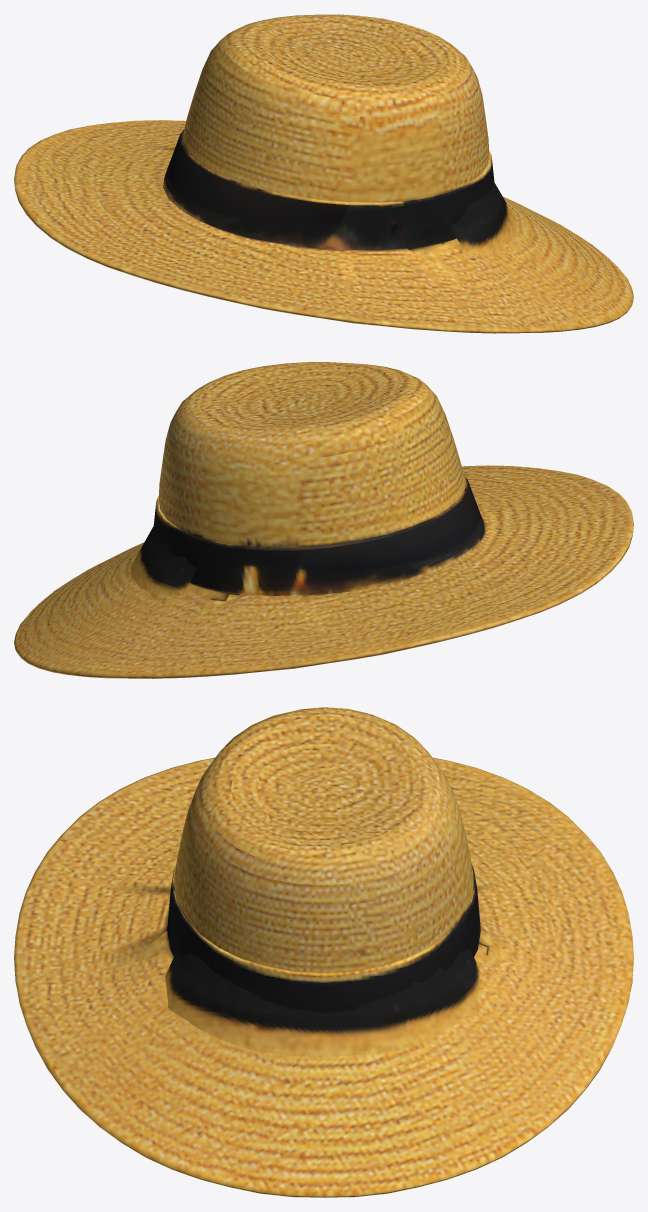
The model's file is chapeu_palha_dourado.glb.
The picture shows the model from 3 angles, top to bottom: view 1: azimuth 30°, elevation 25°; view 2: azimuth 150°, elevation 25°; view 3: azimuth 270°, elevation 25°; orthographic projection. The views are drawn at different scales.
Visible parts, largest first — view 1: chapeu_palha_dourado; view 2: chapeu_palha_dourado; view 3: chapeu_palha_dourado.
Boxes of the visible parts, x1=… form: chapeu_palha_dourado: x1=14, y1=14, x2=633, y2=333; chapeu_palha_dourado: x1=14, y1=362, x2=633, y2=678; chapeu_palha_dourado: x1=14, y1=707, x2=633, y2=1197.
Size of the model in its own units: 0.4321 by 0.2119 by 0.3916.
Materials: 1 (1 with a texture image).
